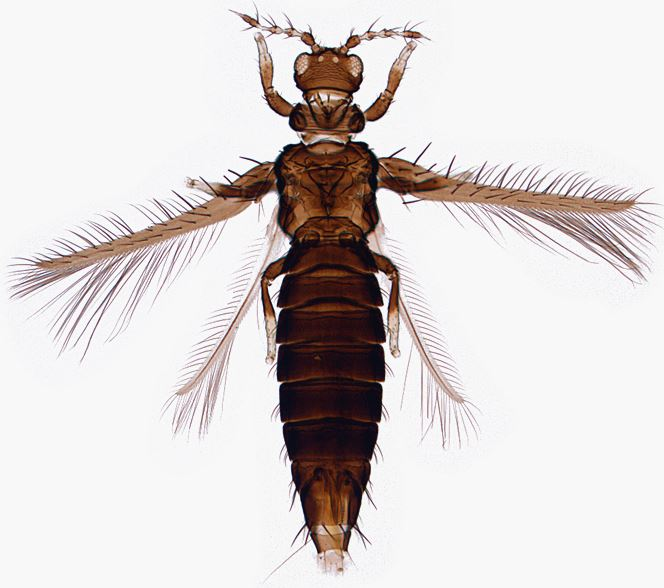Thripidae: (10, 10, 664, 587)
